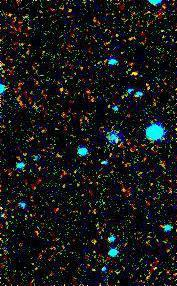star: (119, 62, 149, 92)
